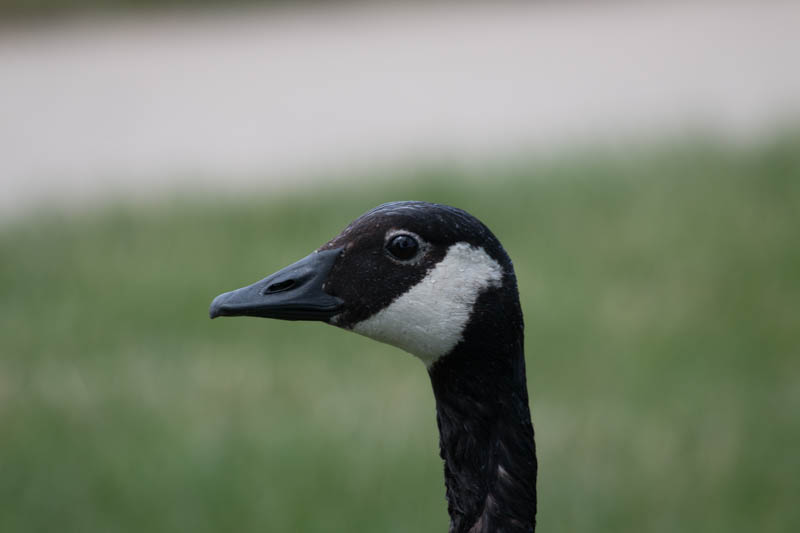goose-head: (208, 201, 525, 371)
